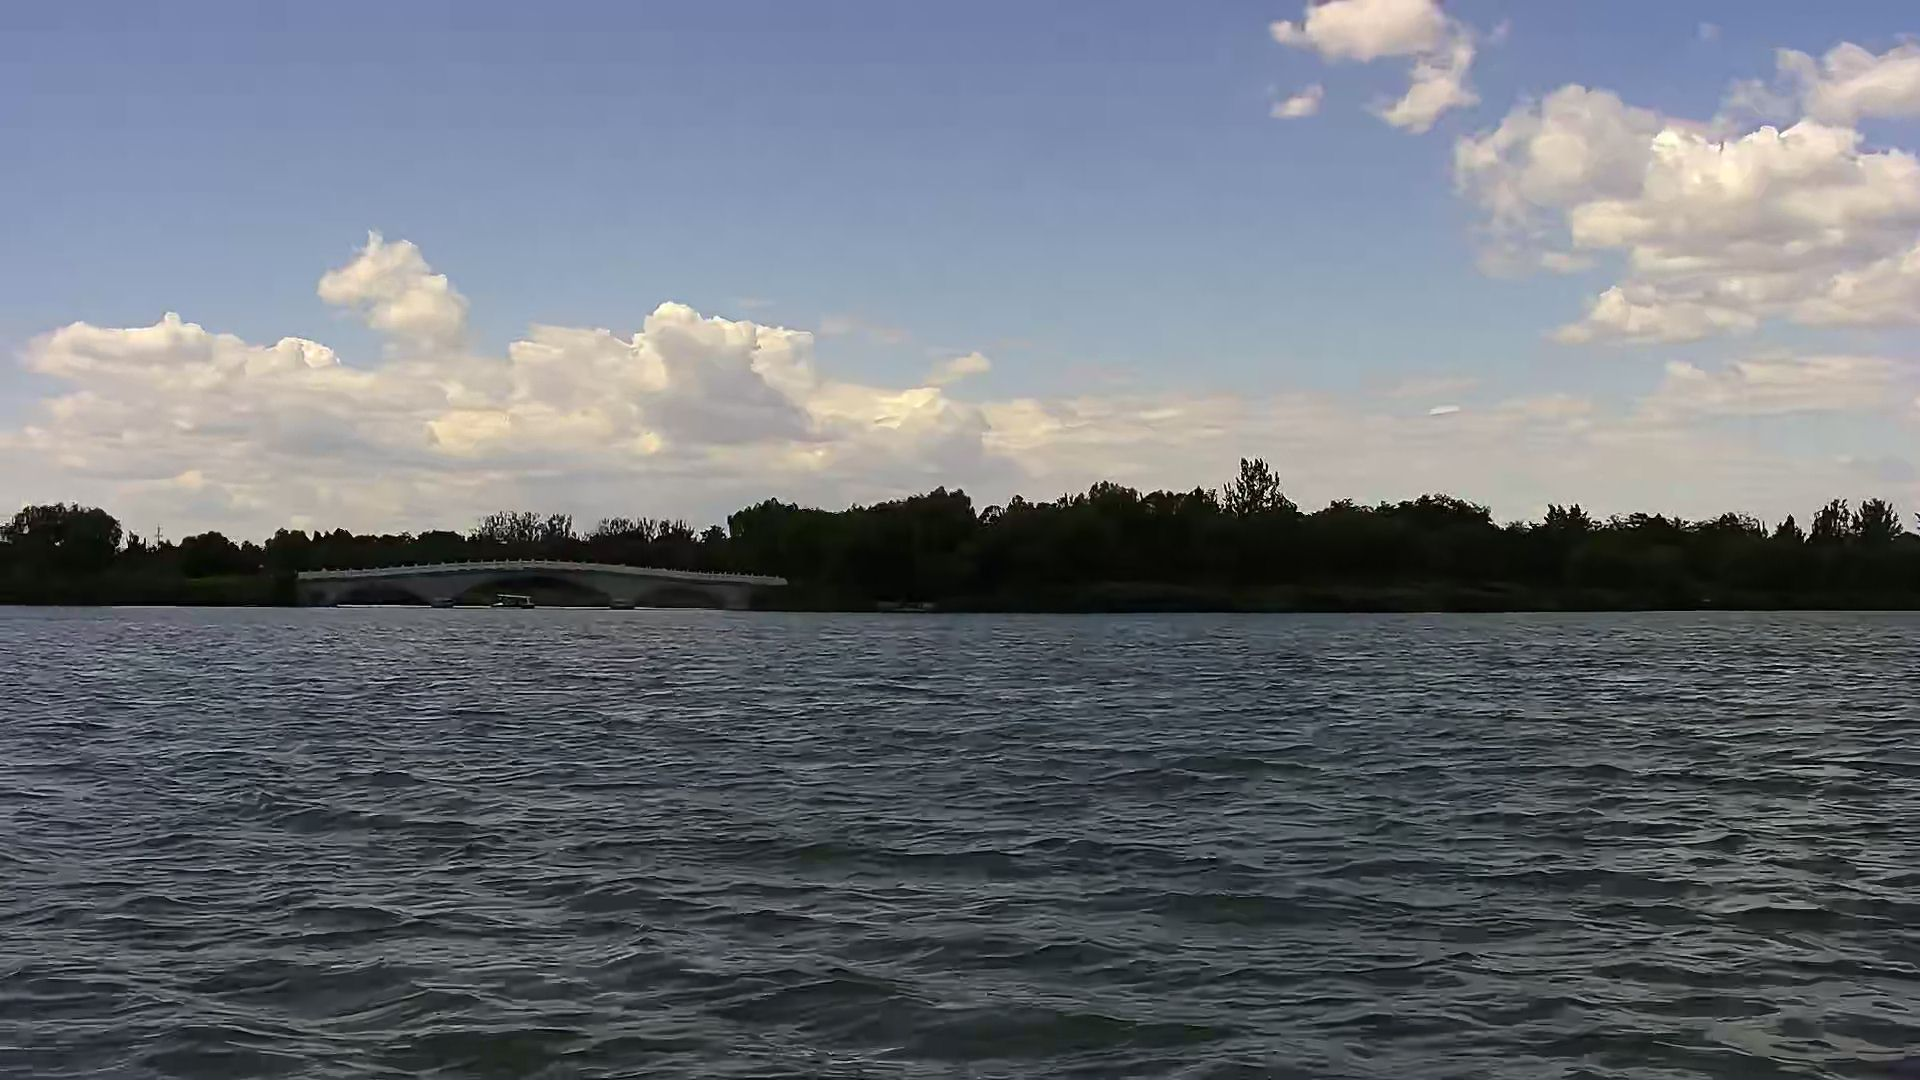boat: (487, 589, 545, 613)
bridge: (291, 553, 800, 615)
